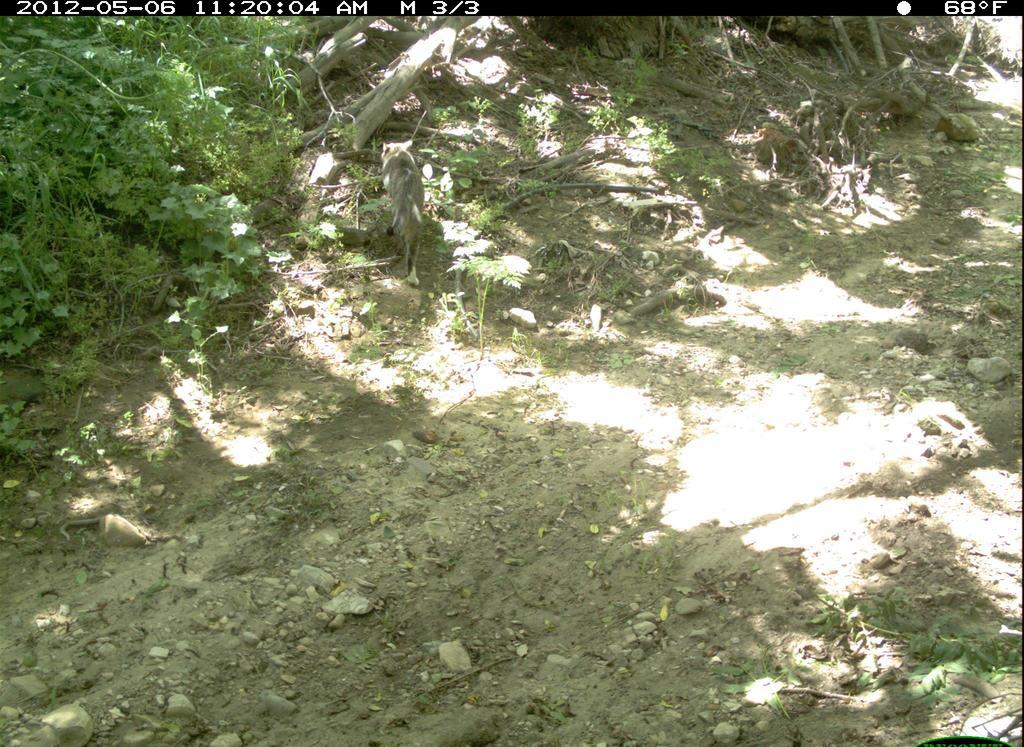cat: (368, 132, 440, 297)
